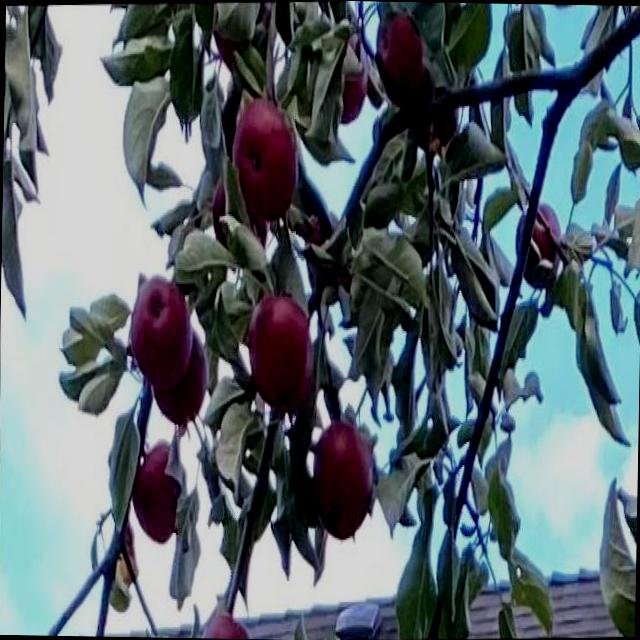Apple: (233, 99, 300, 218), (310, 419, 374, 536), (248, 292, 312, 406), (132, 276, 190, 382), (132, 436, 184, 546), (374, 10, 426, 104), (154, 335, 206, 421), (514, 200, 564, 288), (333, 36, 367, 124)
